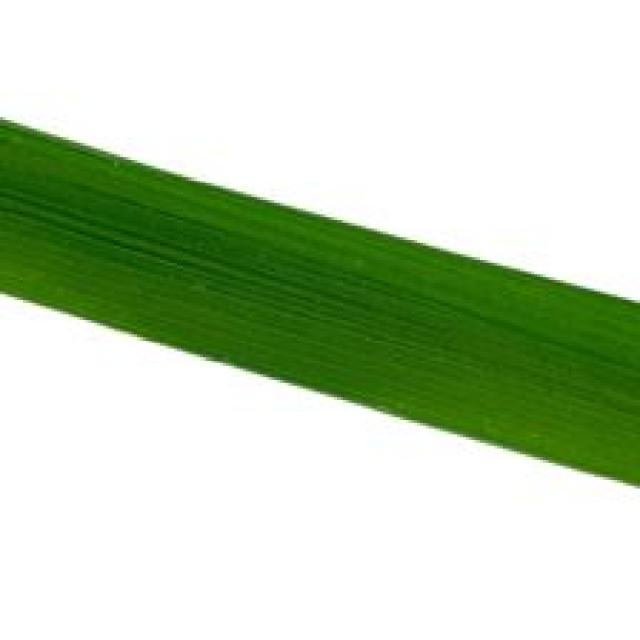Rice___Healthy_Rice_Plant: (0, 113, 637, 494)
